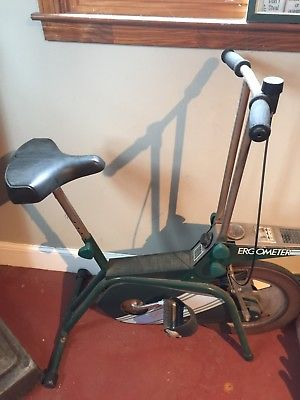gym_bike: (19, 45, 297, 366)
